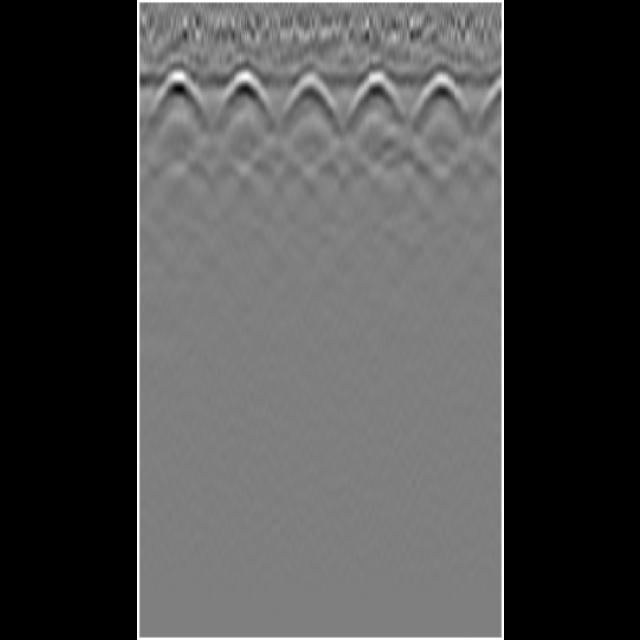hyperbola: (147, 64, 206, 126), (406, 68, 469, 120), (277, 70, 337, 124), (346, 68, 402, 119), (218, 65, 268, 109)
